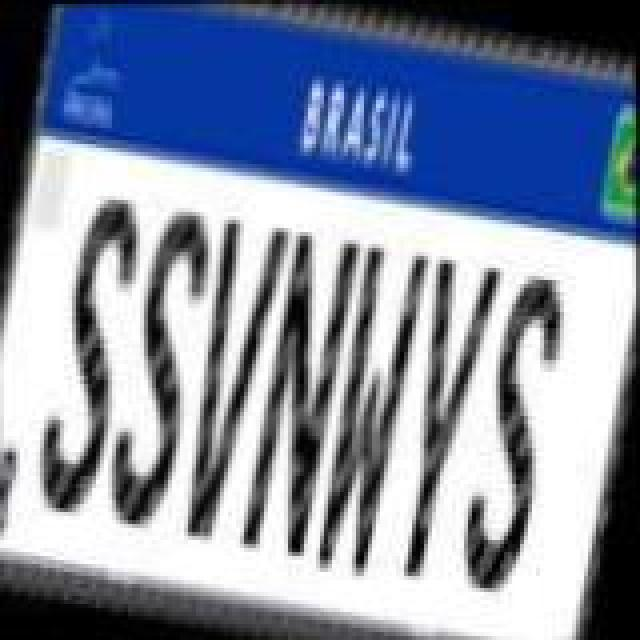N: (238, 224, 370, 564)
S: (24, 186, 156, 526), (94, 196, 222, 536), (448, 262, 576, 598)
V: (164, 212, 296, 548)
W: (302, 236, 434, 584)
Y: (380, 246, 508, 586)
